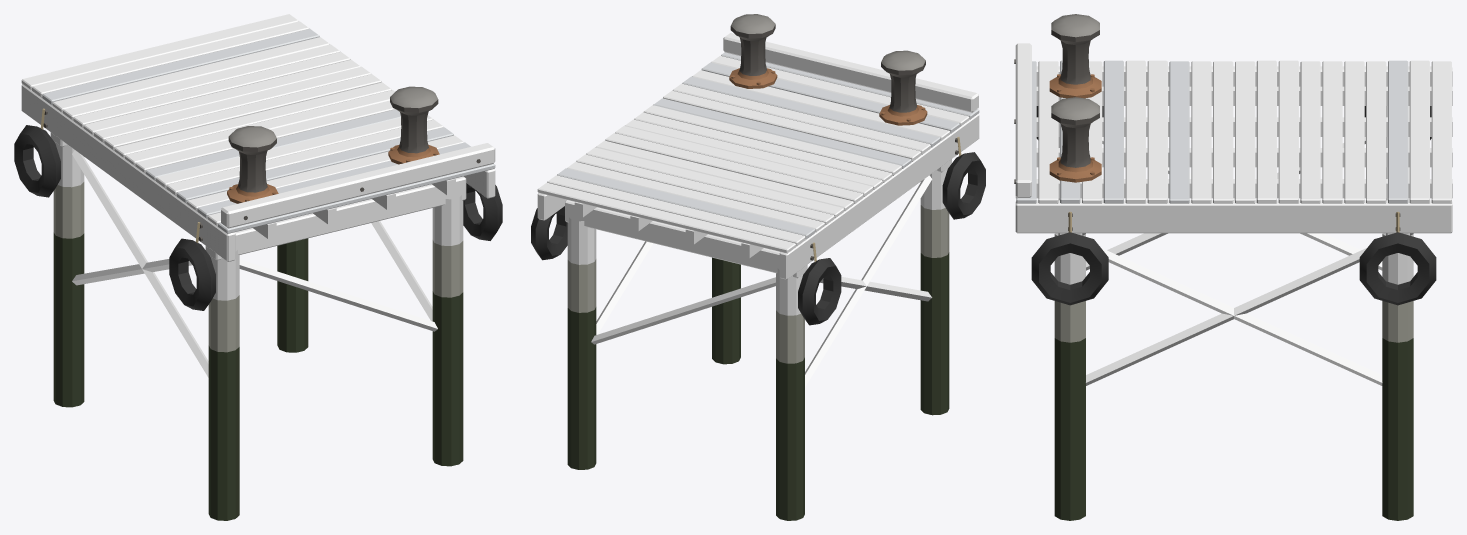
The model's file is dock_end.glb.
3 views of the same model, side by side, from view 1: azimuth 30°, elevation 25°; view 2: azimuth 150°, elevation 25°; view 3: azimuth 270°, elevation 25° (orthographic). The views are drawn at different scales.
Visible parts, largest first — view 1: dock_end_body; view 2: dock_end_body; view 3: dock_end_body.
Boxes of the visible parts, x1,y1,x2,y2 form: dock_end_body: (14, 14, 502, 520); dock_end_body: (531, 14, 985, 520); dock_end_body: (1014, 14, 1452, 520).
Size of what is drawn, in the model's own units: 3.39 by 3.98 by 4.01.
